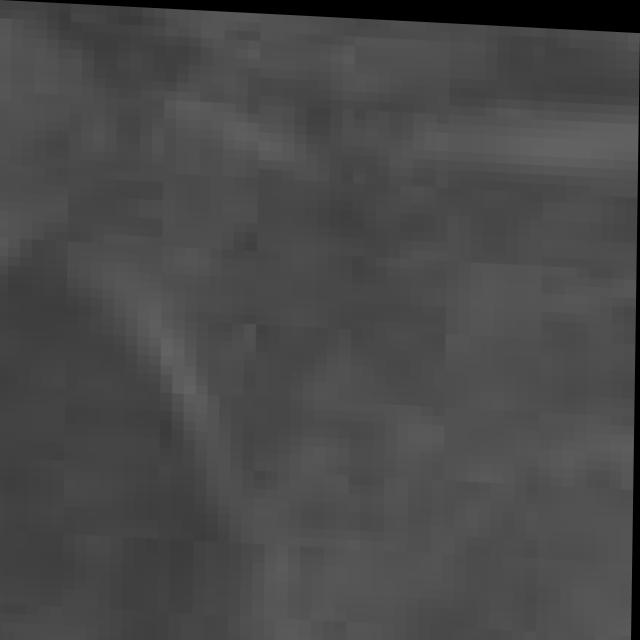fracture: (0, 20, 640, 640)
